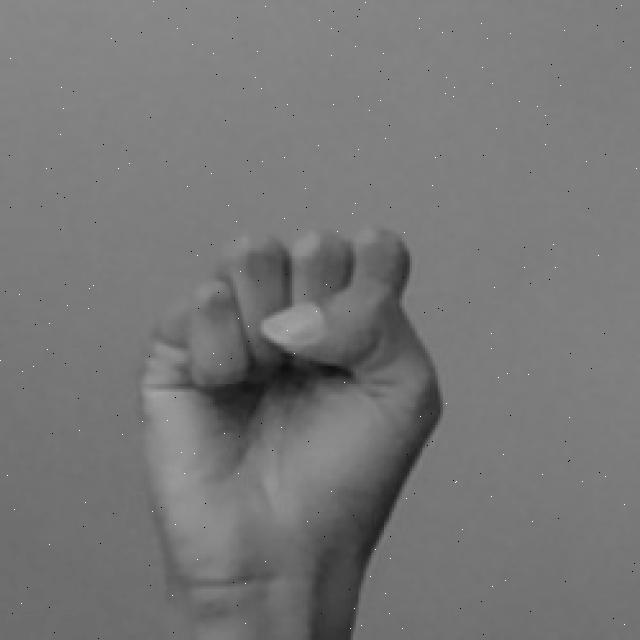S: (124, 219, 450, 640)
